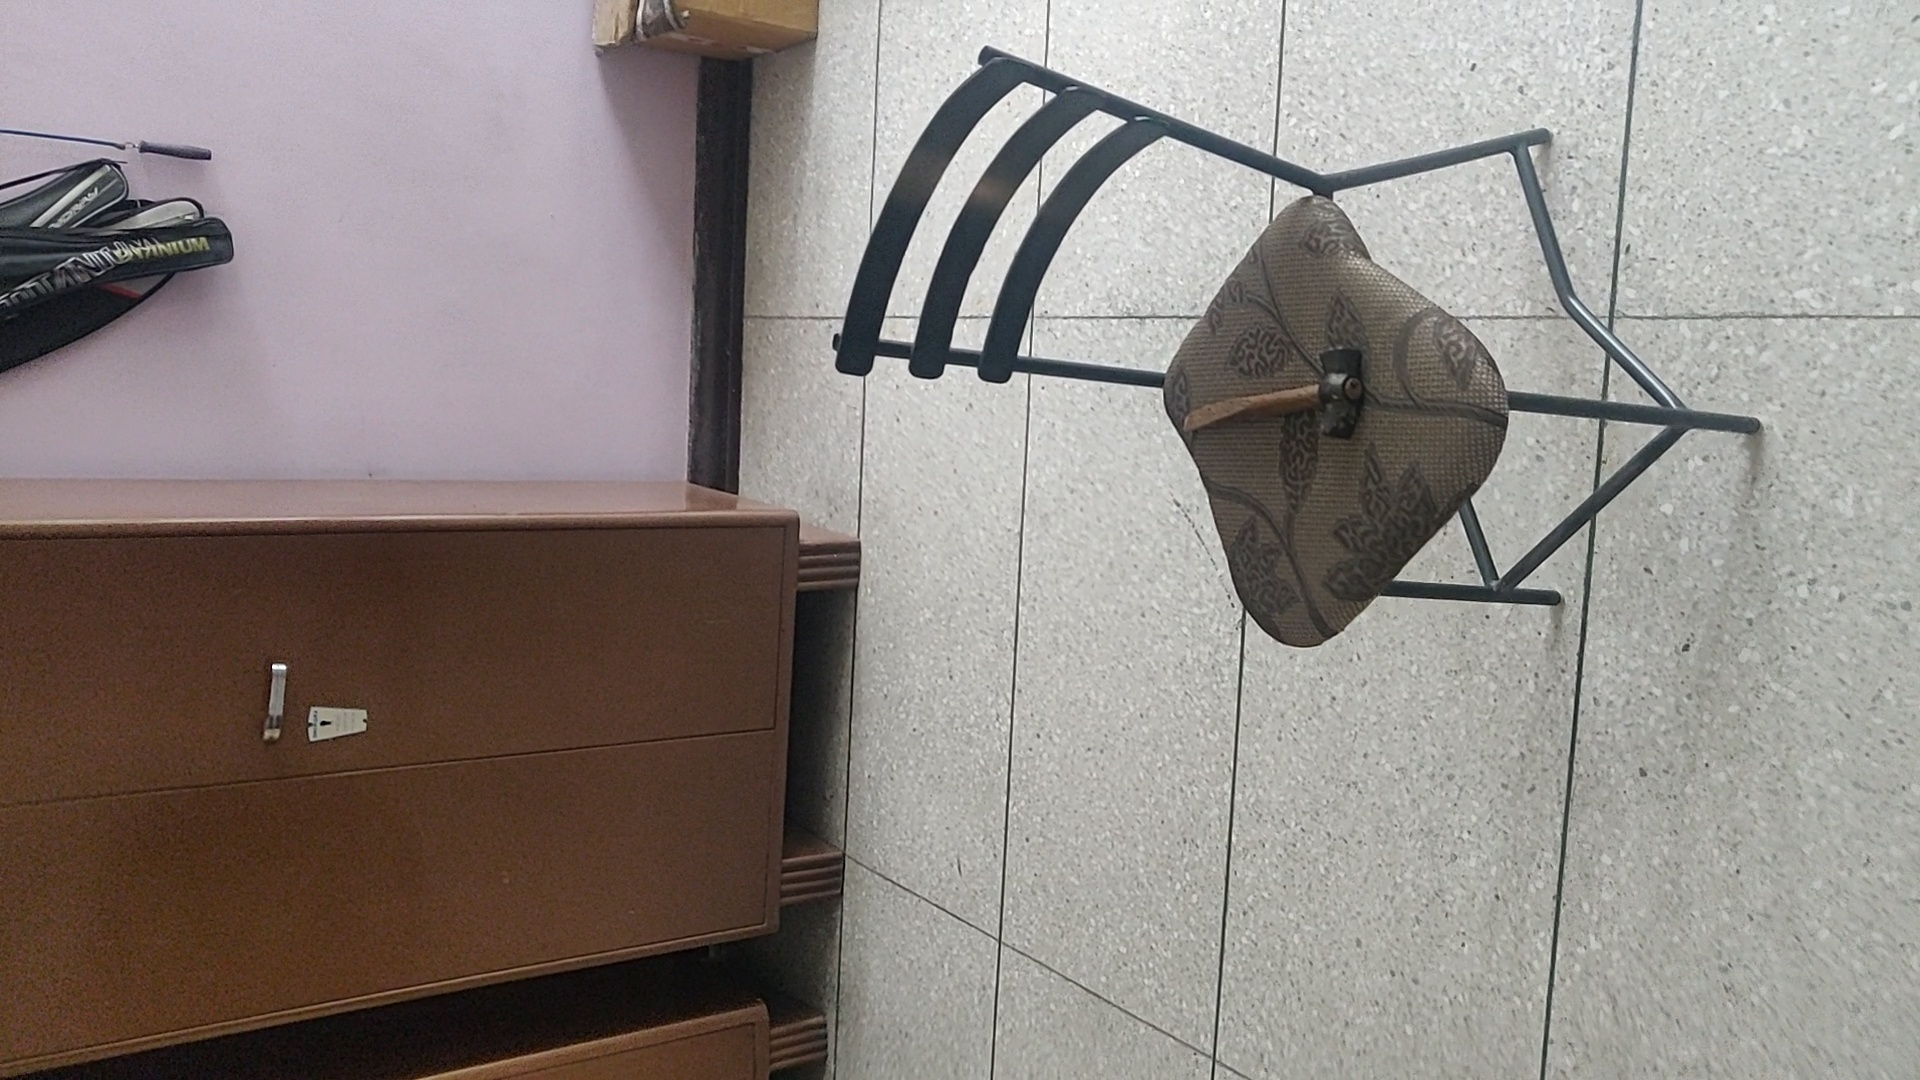hammer: (1180, 343, 1366, 443)
